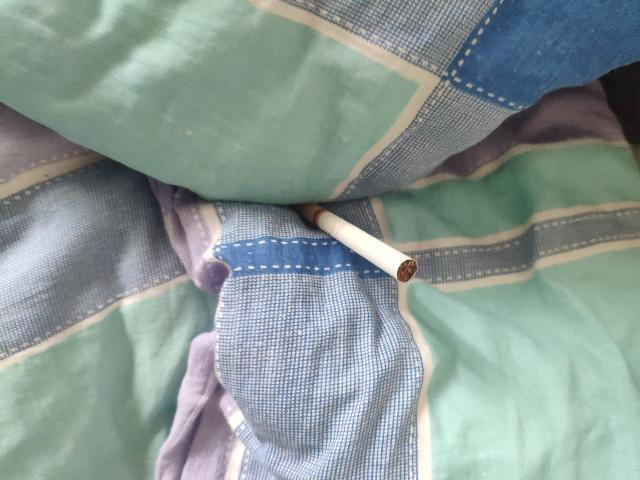Smoking: (292, 201, 421, 283)
